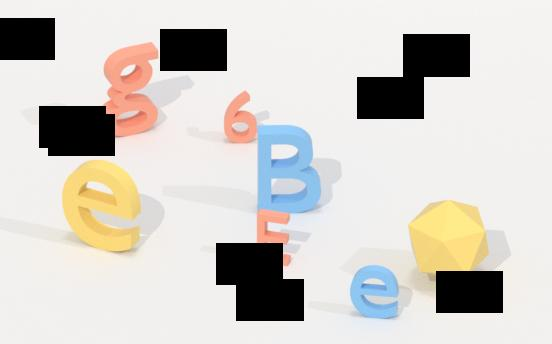6: (220, 90, 262, 146)
E-hoa: (252, 207, 296, 268)
b: (252, 123, 322, 213)
dagiac: (399, 201, 495, 279)
e: (60, 159, 150, 255), (347, 265, 404, 321)
g: (100, 41, 164, 141)
